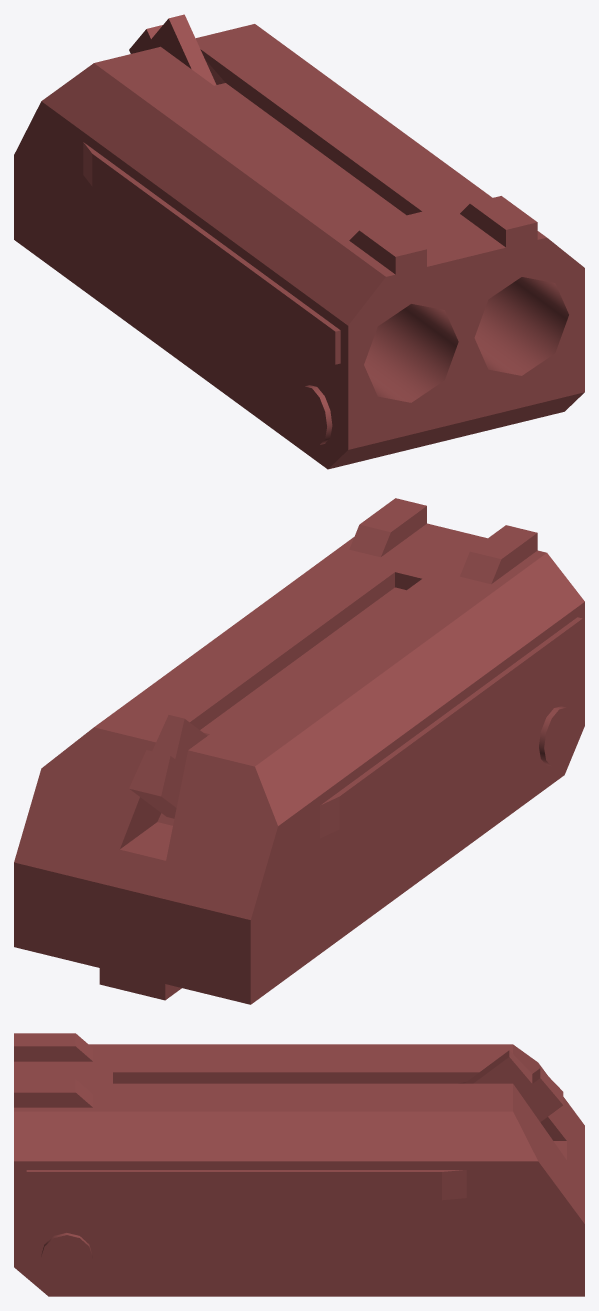
Rendered from WM0_Cannon_x2_LVL1.FBX.
3 views of the same model, one above another, from view 1: azimuth 30°, elevation 25°; view 2: azimuth 150°, elevation 25°; view 3: azimuth 270°, elevation 25° (orthographic). The views are drawn at different scales.
Parts seen in each view (by area): view 1: WM0_Cannon_x2_LVL1; view 2: WM0_Cannon_x2_LVL1; view 3: WM0_Cannon_x2_LVL1.
Boxes of the visible parts, x1,y1,x2,y2 form: WM0_Cannon_x2_LVL1: (14, 14, 584, 469); WM0_Cannon_x2_LVL1: (14, 498, 584, 1004); WM0_Cannon_x2_LVL1: (14, 1033, 584, 1296).
Bounding box in the file's own units: 11.75 × 11.05 × 27.5.
